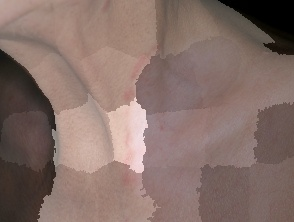vitiligo: (80, 9, 261, 222)
